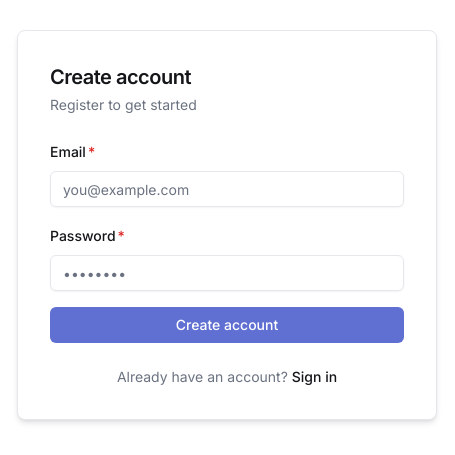
Test case: RegisterPage › shows a zod validation error when password is too short
# Use fireEvent.submit to bypass jsdom native validation
Type "new@example.com" into the field labelled "Email*" at (227,189), box [50, 171, 404, 207]
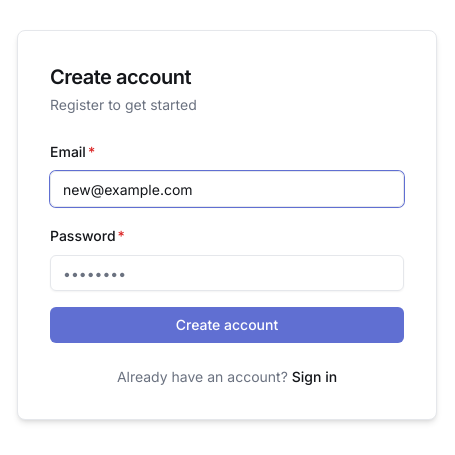
Type "short" into the password field labelled "Password*" at (227,273), box [50, 255, 404, 291]
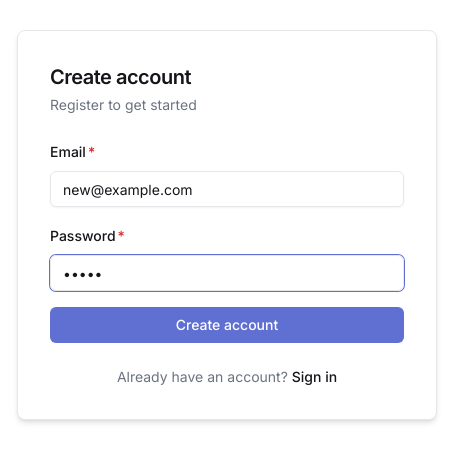
Submit the form "Email* Password* Create account", box [50, 139, 404, 343]
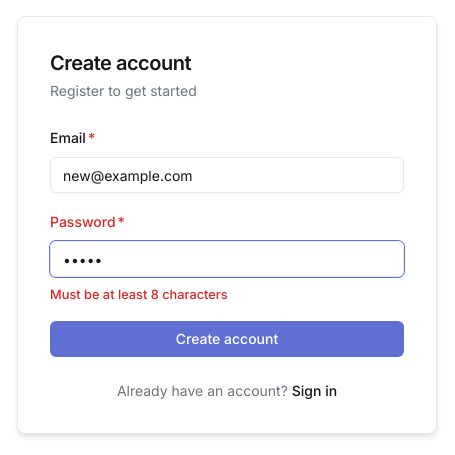
Result: the text "Must be at least 8 characters" is shown at [50, 287, 228, 302]
